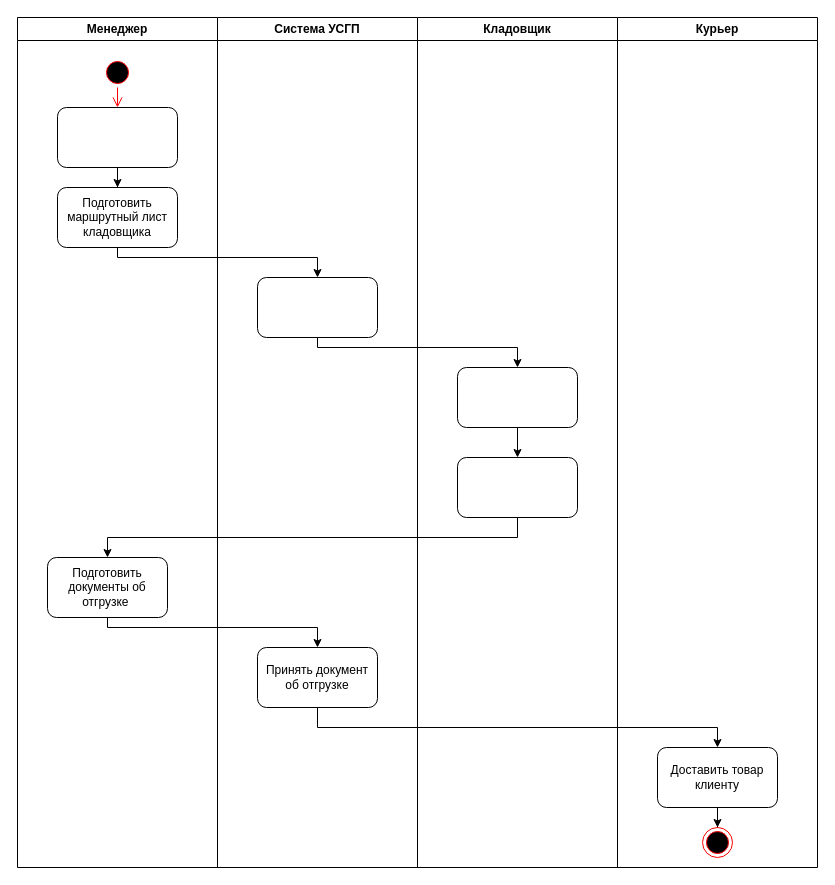
Image size: 835x885. Some labels were removed from this diagram. The shapes that lost their labels are listed below. From the top down, each one's centre as x and y in pixels, then its label:
At [117,137]: "Проанализировать информацию о заказе".
At [317,307]: "Принять маршрутный лист".
At [517,397]: "Определить местоположение товара на складе".
At [517,487]: "Упаковать товар".
